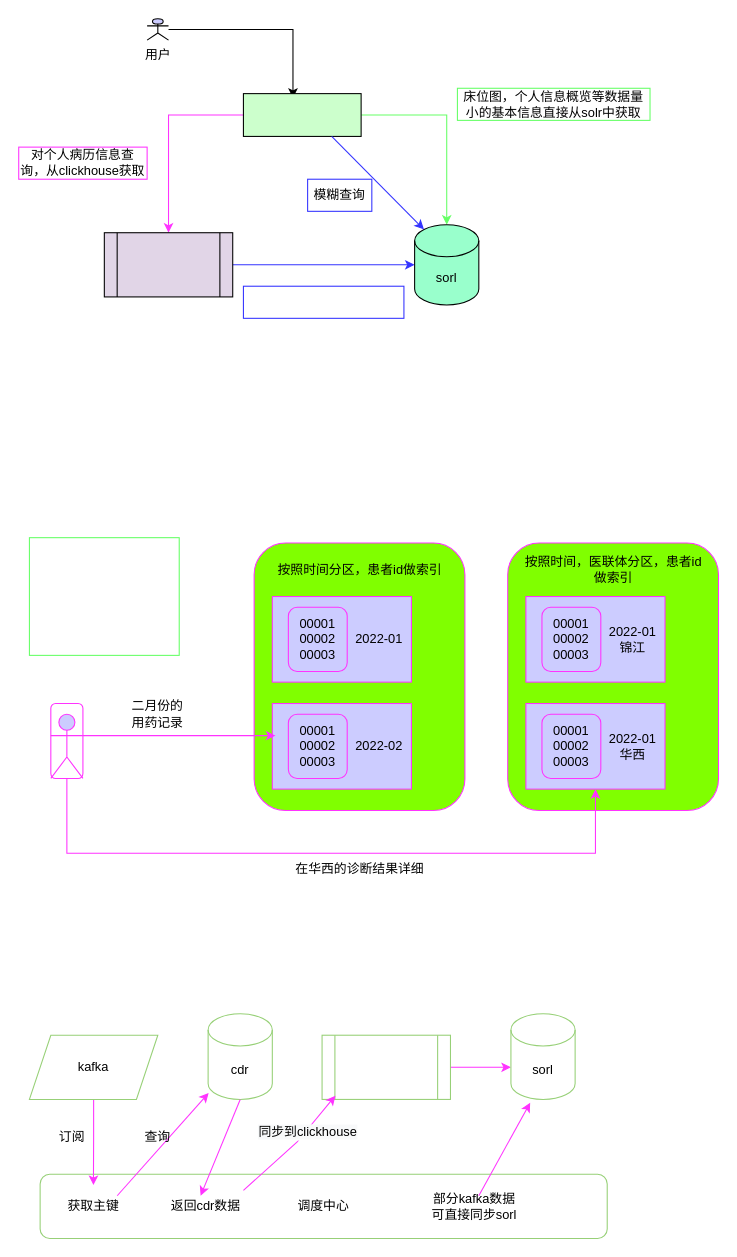
Some shapes in this 737 by 1257 pixel diagram are drawn without their labels. The centre of each missing label's shape, as x and y in pixels:
"360系统" belongs at point (301, 114).
"clcikhouse" belongs at point (168, 264).
"clickhouse" belongs at point (385, 1066).
"合理的分区处理，结合clickhouse分布式查询的特性，缩小了需要查询的数据范围，使得查询面向小的数据块，提升效率" belongs at point (103, 596).
"患者" belongs at point (66, 745).
"需要模糊查询的医嘱信息 写入sorl" belongs at point (323, 301).
